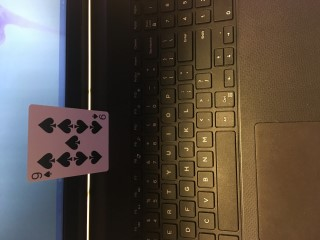NineOfSpades: (28, 104, 109, 183)
